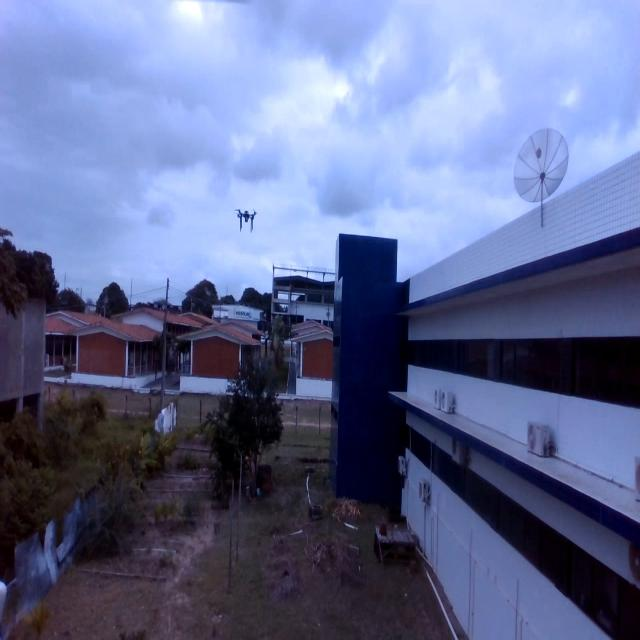-uav-: (231, 198, 261, 244)
